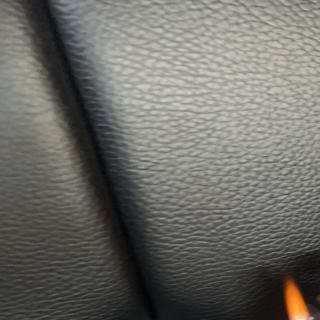fire: (282, 278, 311, 320)
